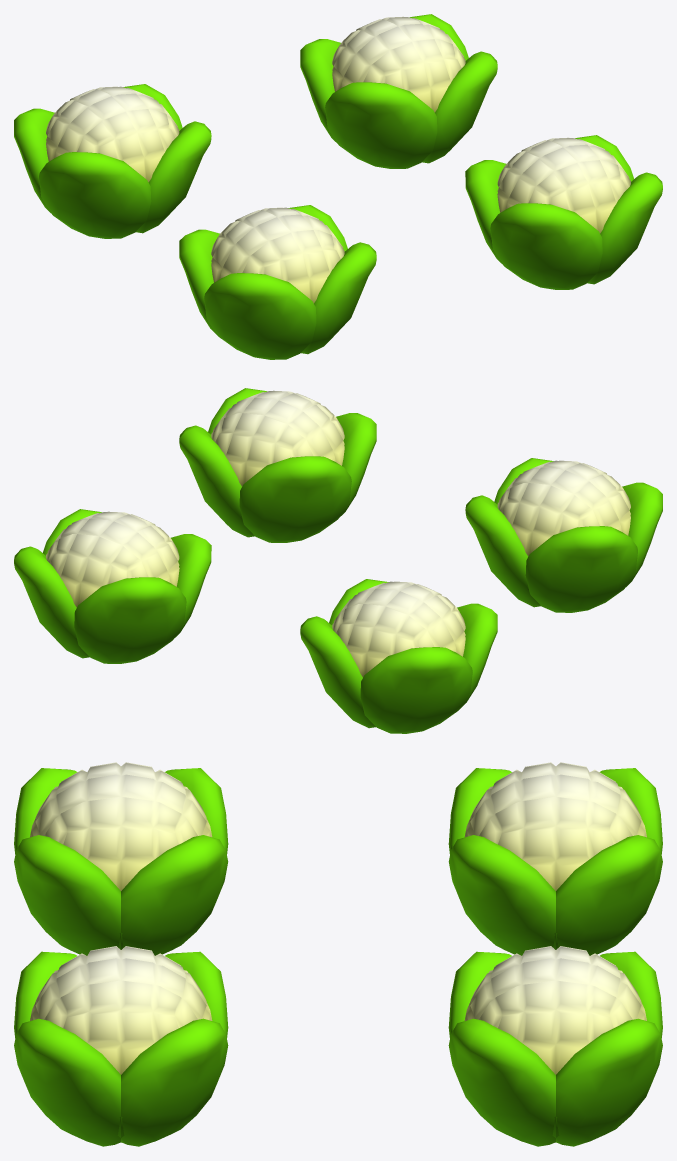
File: Farm_Crop_Cauliflower_Step_02.glb
3 renders of one model, top to bottom at view 1: azimuth 30°, elevation 25°; view 2: azimuth 150°, elevation 25°; view 3: azimuth 270°, elevation 25°, orthographic. The views are drawn at different scales.
Parts seen in each view (by area): view 1: Farm_Crop_Cauliflower_Step_02; view 2: Farm_Crop_Cauliflower_Step_02; view 3: Farm_Crop_Cauliflower_Step_02.
Boxes of the visible parts, x1,y1,x2,y2 form: Farm_Crop_Cauliflower_Step_02: (14, 14, 662, 359); Farm_Crop_Cauliflower_Step_02: (14, 388, 662, 733); Farm_Crop_Cauliflower_Step_02: (14, 762, 662, 1146).
Size of the model in its own units: 1.54 by 0.4541 by 1.49.
1 material, 1 textured.
